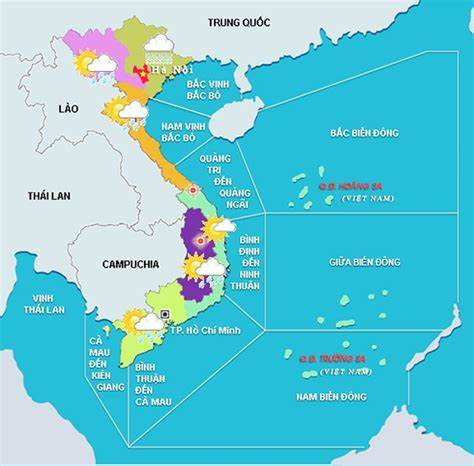Island: (271, 284, 393, 381), (279, 163, 404, 210)
